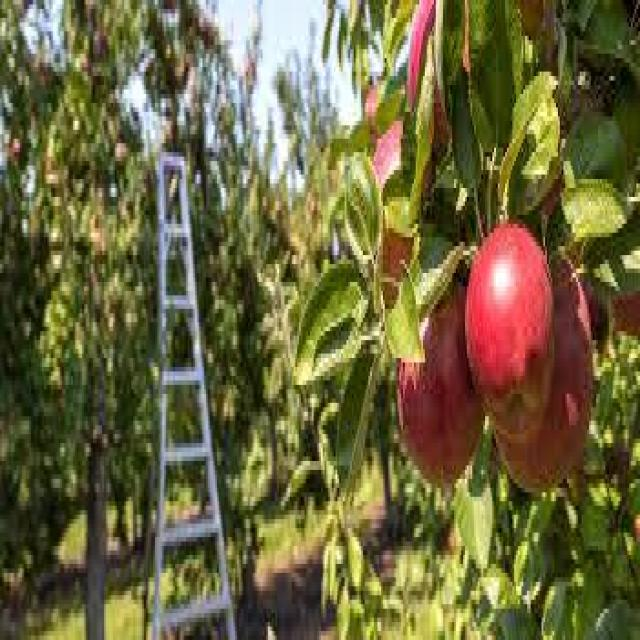fruit: (488, 224, 598, 515), (463, 221, 561, 448), (398, 288, 486, 484), (401, 0, 471, 173), (372, 115, 430, 298), (363, 78, 384, 137)
